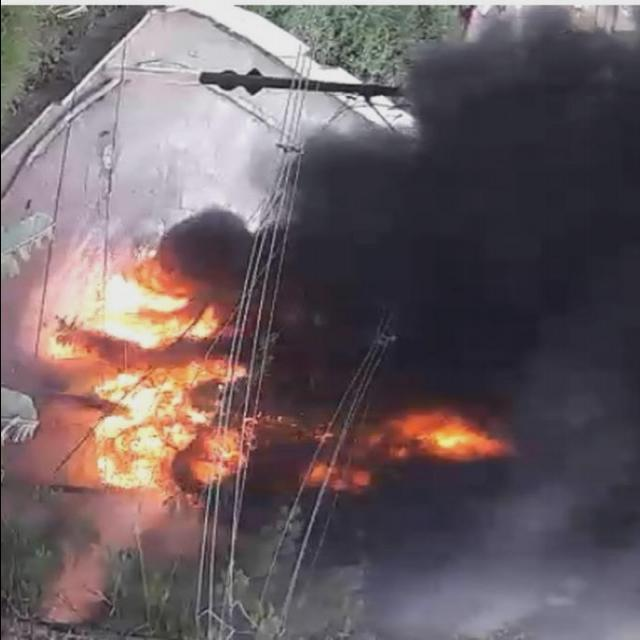Fire: (45, 241, 266, 508), (304, 396, 512, 506)
